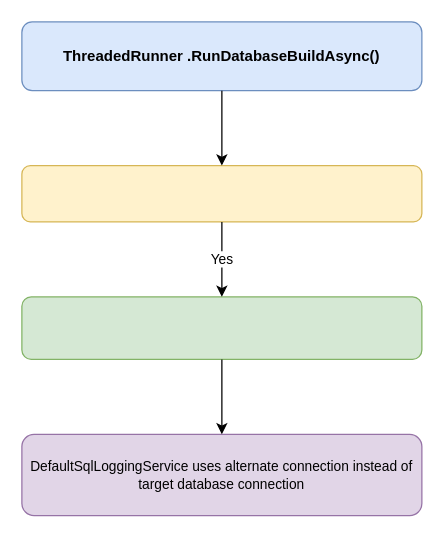
Some shapes in this 444 by 538 pixel diagram are drawn without their labels. Here are the shapes that lost their labels. From the top down, the centre of each, then its label:
At (221,193): "cmdArgs.LogToDatabaseName specified?".
At (221,327): "runDataModel.LogToDatabaseName = cmdArgs.LogToDatabaseName".
